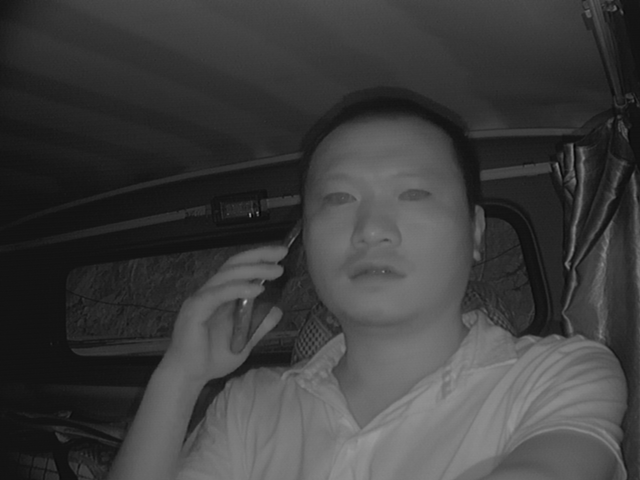hand: (183, 242, 281, 376)
